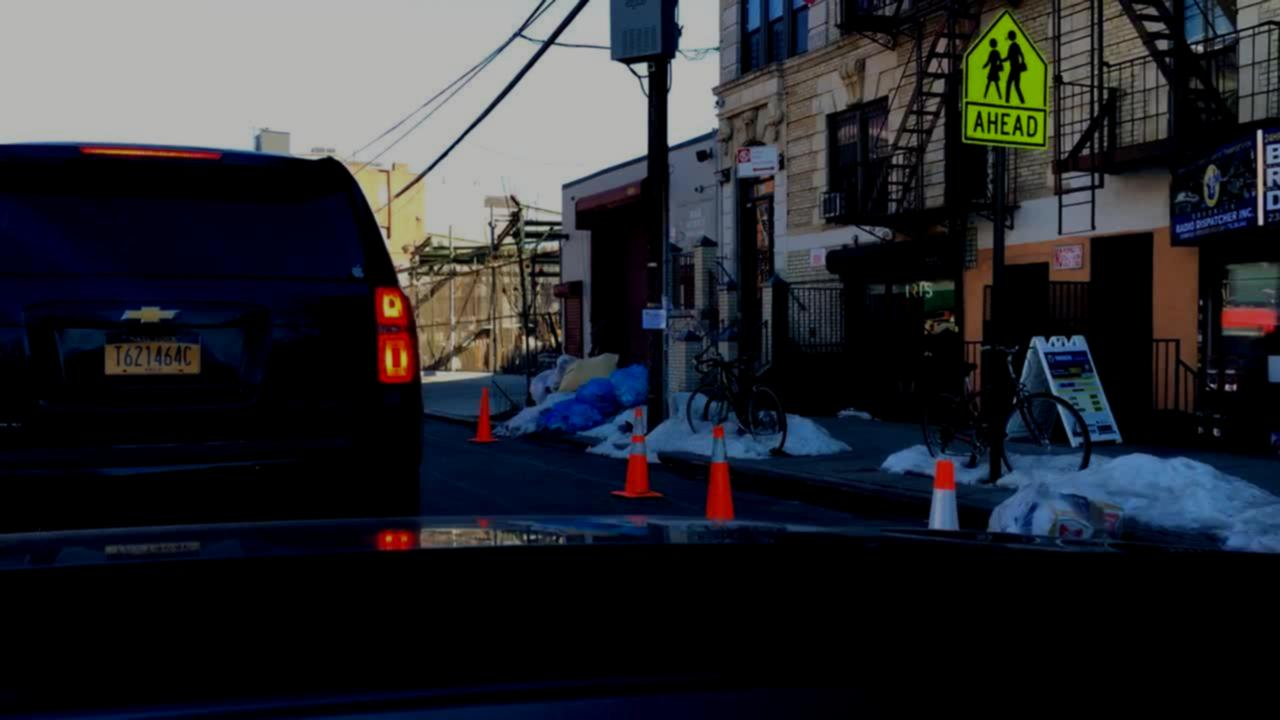chevrolet: (109, 290, 190, 336)
